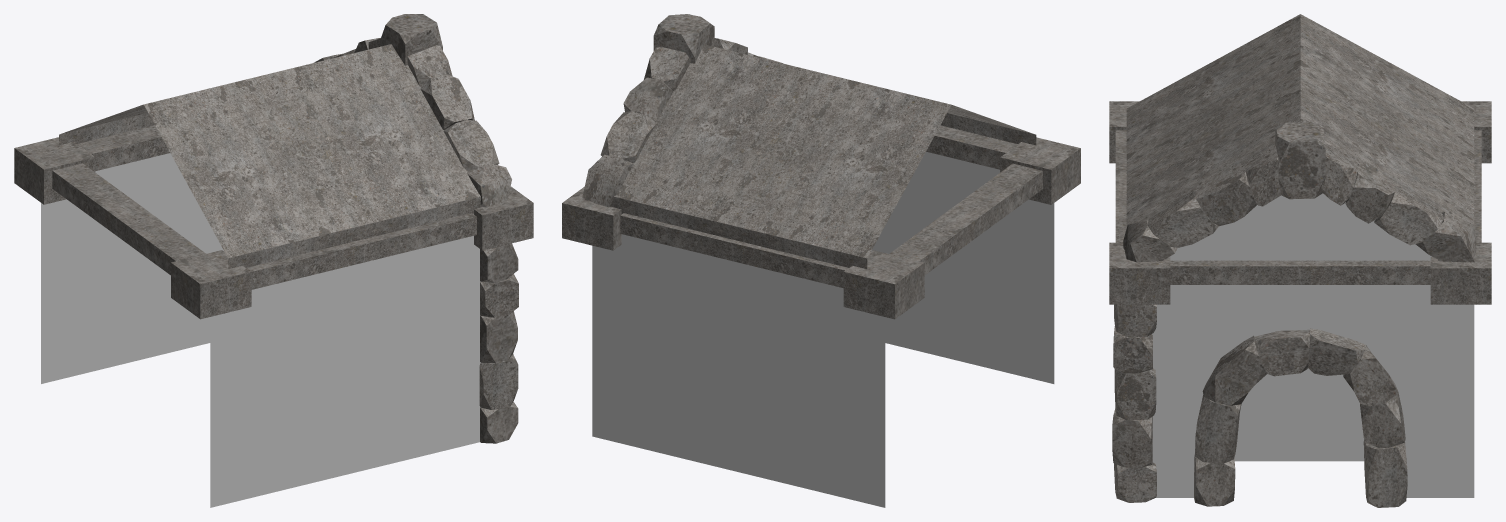
Rendered from Santuario.fbx.
3 renders of one model, left to right at view 1: azimuth 30°, elevation 25°; view 2: azimuth 150°, elevation 25°; view 3: azimuth 270°, elevation 25°, orthographic. The views are drawn at different scales.
Parts seen in each view (by area): view 1: Plane, Plane.002, Plane.001, Stone_Column.005, Stone_Column.006; view 2: Plane, Plane.002, Plane.001, Stone_Column.005; view 3: Plane, Plane.002, Stone_Column.005, Stone_Column.002, Plane.001, Stone_Column.006.
Boxes of the visible parts, x1,y1,x2,y2 form: Plane: (41, 153, 480, 507); Plane.002: (59, 44, 482, 268); Plane.001: (14, 125, 533, 319); Stone_Column.005: (314, 14, 511, 207); Stone_Column.006: (479, 243, 518, 443); Plane: (592, 151, 1054, 507); Plane.002: (611, 44, 1036, 268); Plane.001: (562, 125, 1080, 319); Stone_Column.005: (582, 14, 782, 207); Plane: (1152, 193, 1474, 497); Plane.002: (1126, 14, 1474, 227); Stone_Column.005: (1123, 122, 1476, 262); Stone_Column.002: (1194, 328, 1407, 507); Plane.001: (1109, 101, 1491, 304); Stone_Column.006: (1112, 304, 1156, 502).
Bounding box in the file's own units: 4.55 × 4.61 × 4.4.
